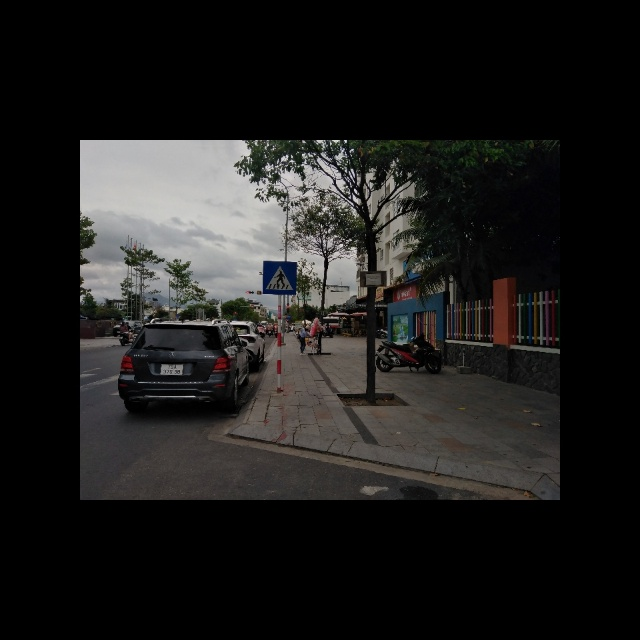Đường dành cho người đi bộ: (261, 260, 298, 298)
